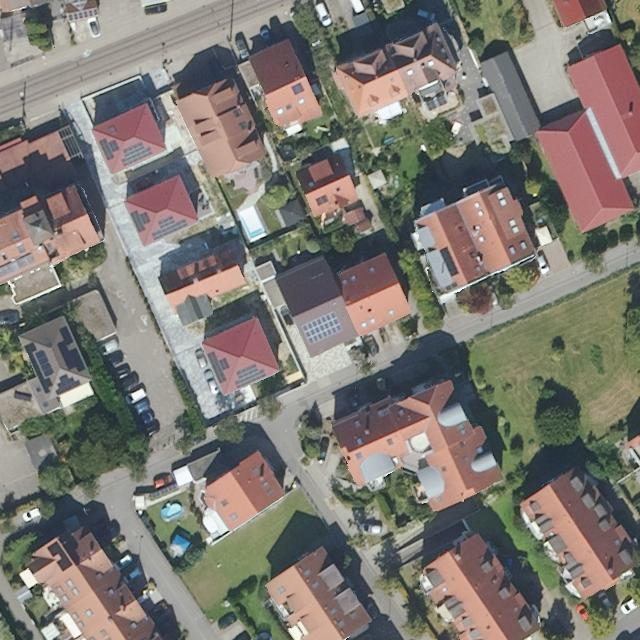PV: (21, 340, 57, 401), (296, 307, 346, 347), (54, 324, 90, 375), (231, 361, 276, 393), (149, 212, 194, 244), (117, 138, 158, 171), (204, 346, 234, 387), (47, 540, 75, 574), (52, 371, 86, 398), (94, 136, 122, 167), (127, 207, 156, 235), (291, 82, 304, 95)
